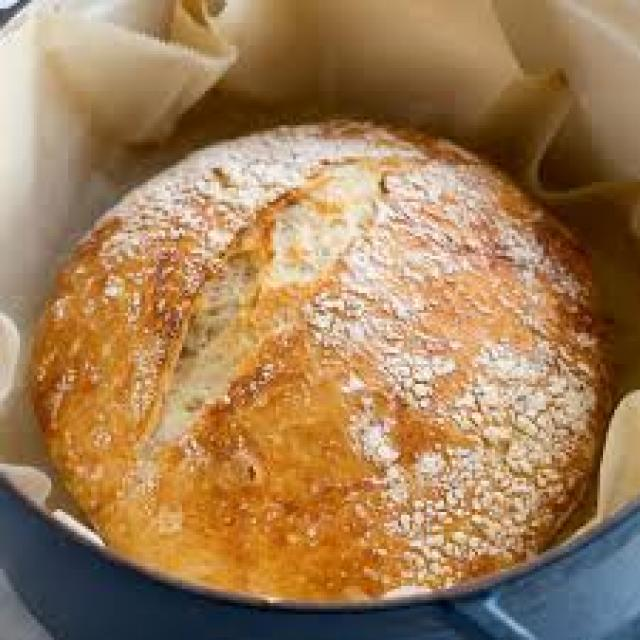organic waste: (28, 114, 609, 597)
